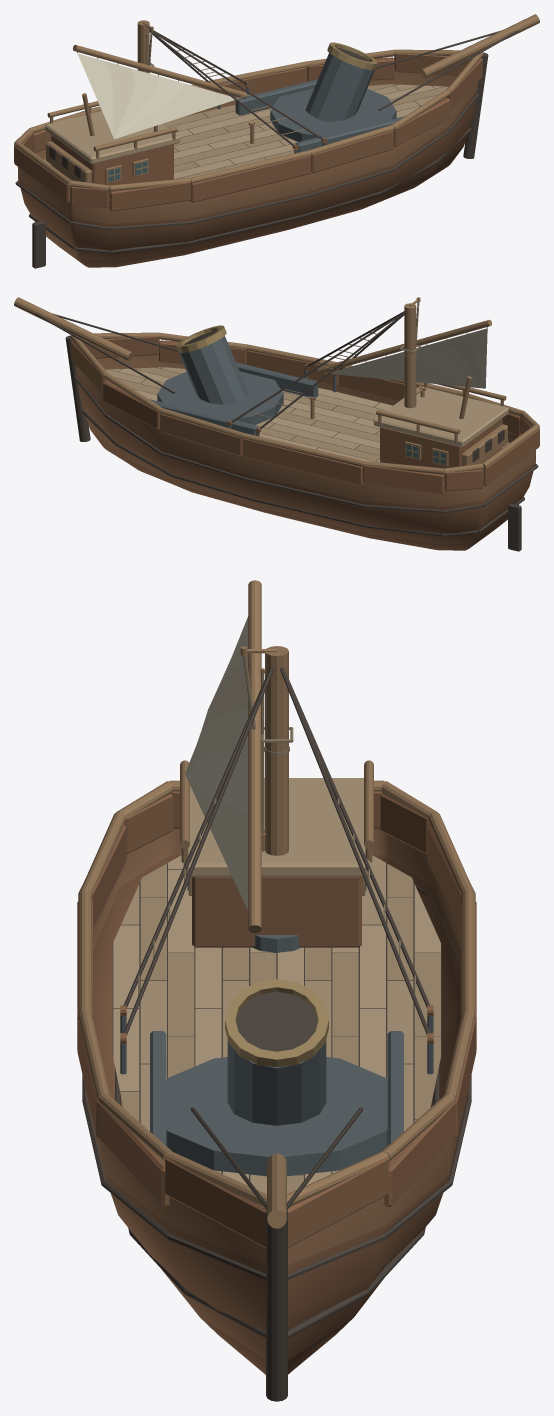
Rendered from bombardShip.glb.
3 views of the same model, one above another, from view 1: azimuth 30°, elevation 25°; view 2: azimuth 150°, elevation 25°; view 3: azimuth 270°, elevation 25° (orthographic). The views are drawn at different scales.
Parts seen in each view (by area): view 1: Hull, Gun, Sail_mast0_main, Rig_mast0; view 2: Hull, Gun, Sail_mast0_main, Rig_mast0; view 3: Hull, Gun, Sail_mast0_main, Rig_mast0.
Boxes of the visible parts, x1,y1,x2,y2 form: Hull: [14, 14, 539, 268]; Gun: [270, 42, 396, 141]; Sail_mast0_main: [77, 53, 238, 139]; Rig_mast0: [73, 22, 246, 98]; Hull: [14, 297, 539, 551]; Gun: [157, 325, 283, 424]; Sail_mast0_main: [326, 328, 487, 388]; Rig_mast0: [317, 297, 491, 394]; Hull: [77, 646, 476, 1401]; Gun: [166, 979, 387, 1176]; Sail_mast0_main: [185, 616, 248, 910]; Rig_mast0: [240, 580, 293, 933].
Bounding box in the file's own units: 213 × 88.7 × 72.8.
